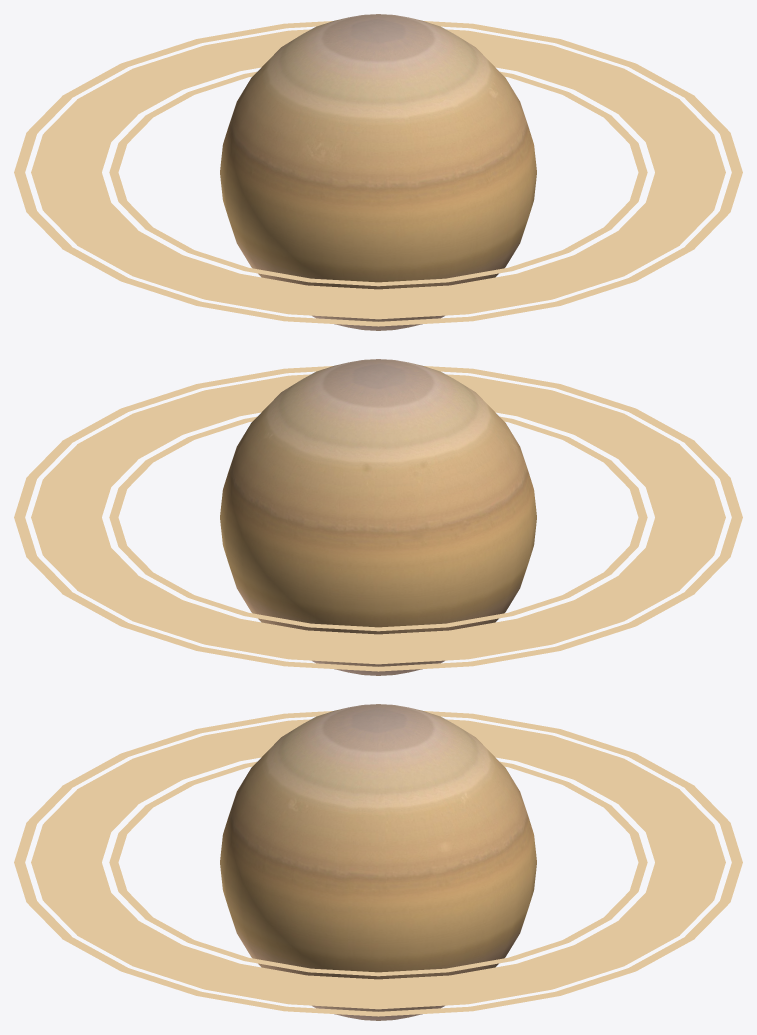
The model's file is saturno.dae.
3 renders of one model, top to bottom at view 1: azimuth 30°, elevation 25°; view 2: azimuth 150°, elevation 25°; view 3: azimuth 270°, elevation 25°, orthographic.
Visible parts, largest first — view 1: Model; view 2: Model; view 3: Model.
Part boxes in pixels (x1,y1,x2,y2): Model: (14, 14, 742, 330); Model: (14, 359, 742, 675); Model: (14, 704, 742, 1020).
Bounding box in the file's own units: 173 × 173 × 75.28.
Materials: 2 (1 with a texture image).
